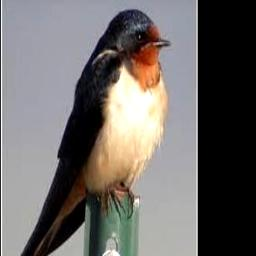Swallow: (15, 8, 171, 256)
